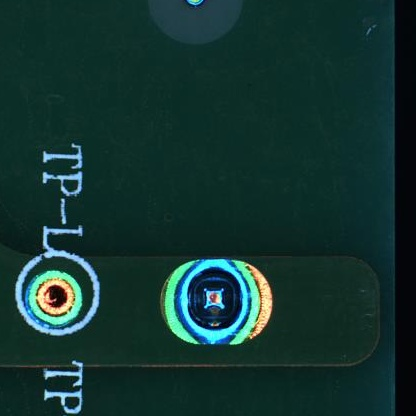spot: (160, 257, 273, 347), (25, 269, 82, 327)
